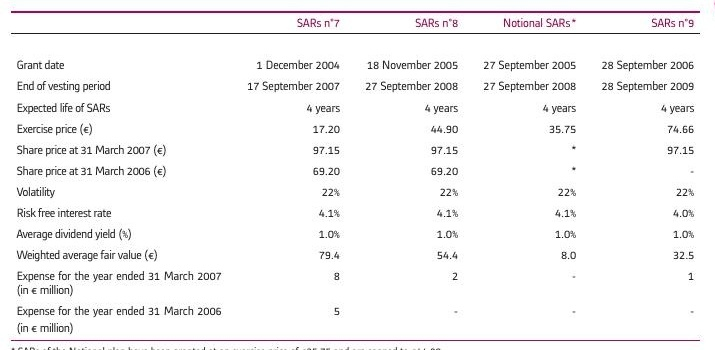table: (0, 0, 715, 350)
